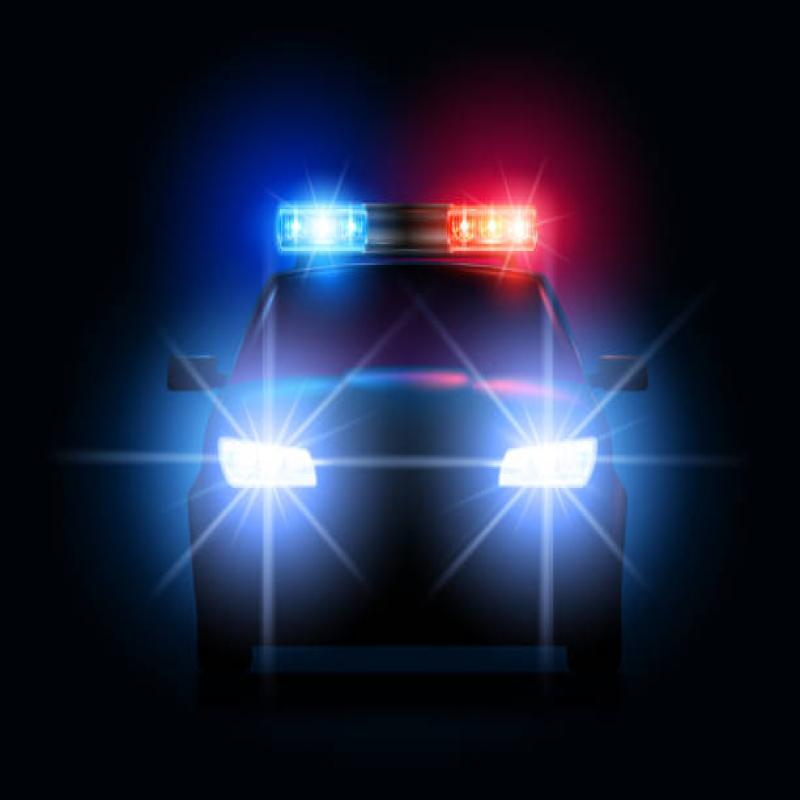AmbulanceSiren: (227, 136, 583, 272)
